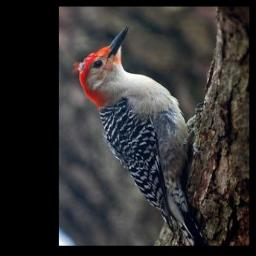Woodpecker: (71, 27, 207, 245)
